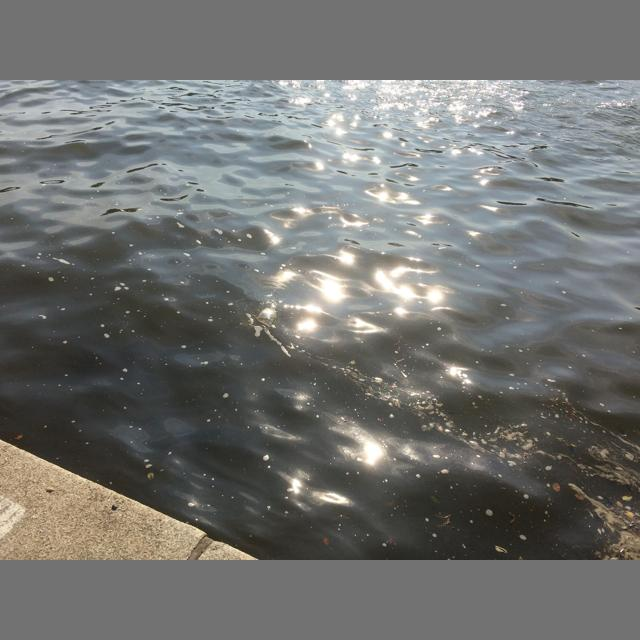litter: (256, 308, 277, 328)
